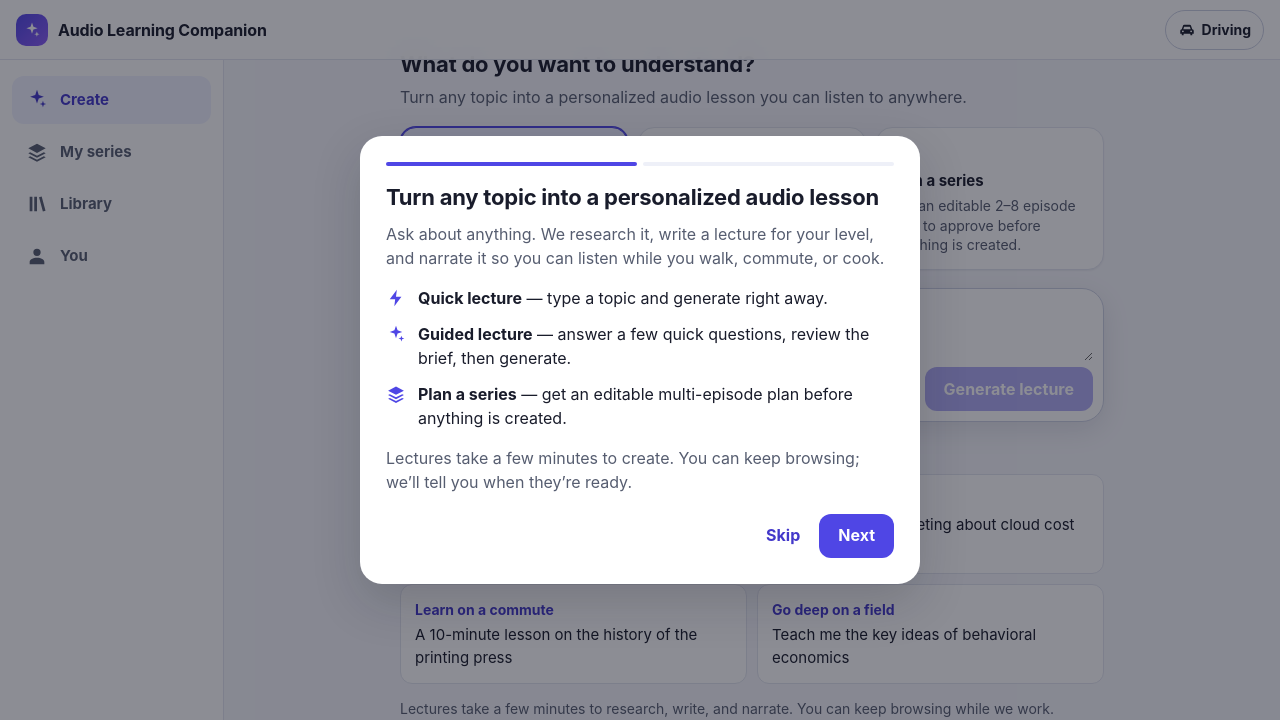
Test: first use › introduces the modes and asks for an explicit personalization choice
(page scrolled)
Expected: the navigation bar named "Primary" is shown, [0,60,224,719]
Click the button "Next": (857, 536) [819,514,894,558]
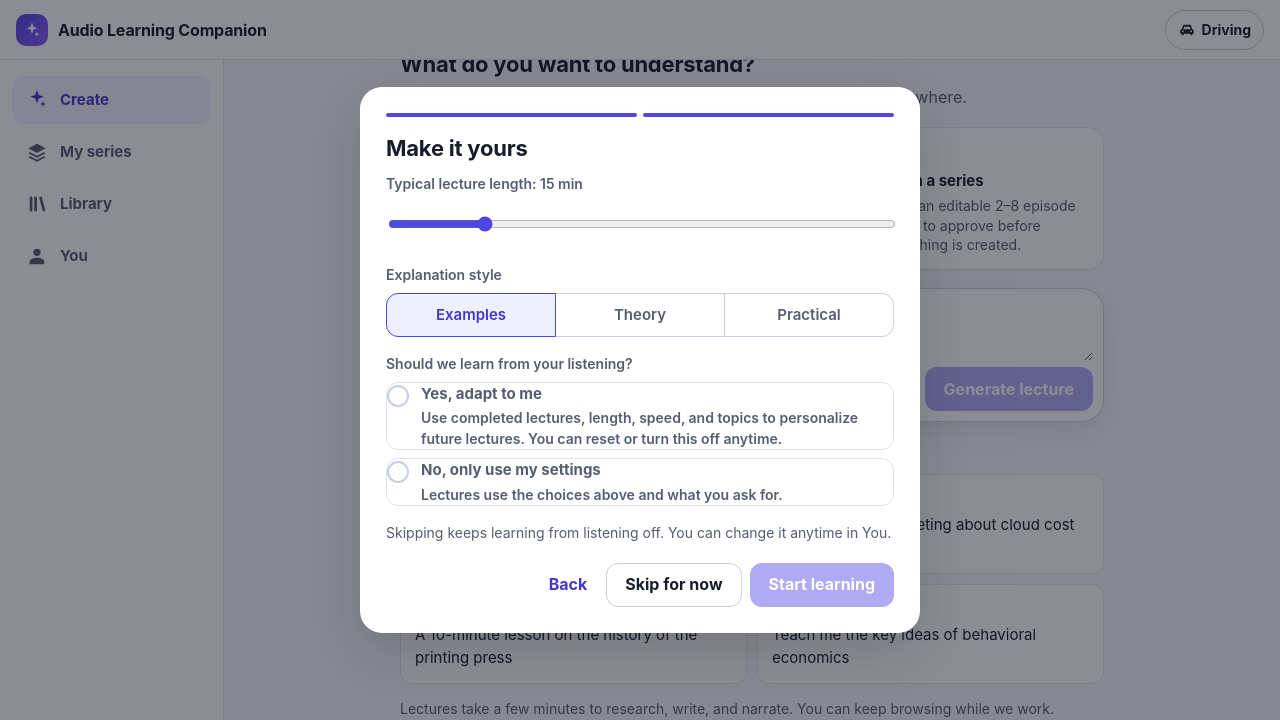
Expected: the button "Start learning" is disabled, [750,563,894,607]
Click the radio button labelled "No, only use my settings": (511, 470) [386,458,894,506]
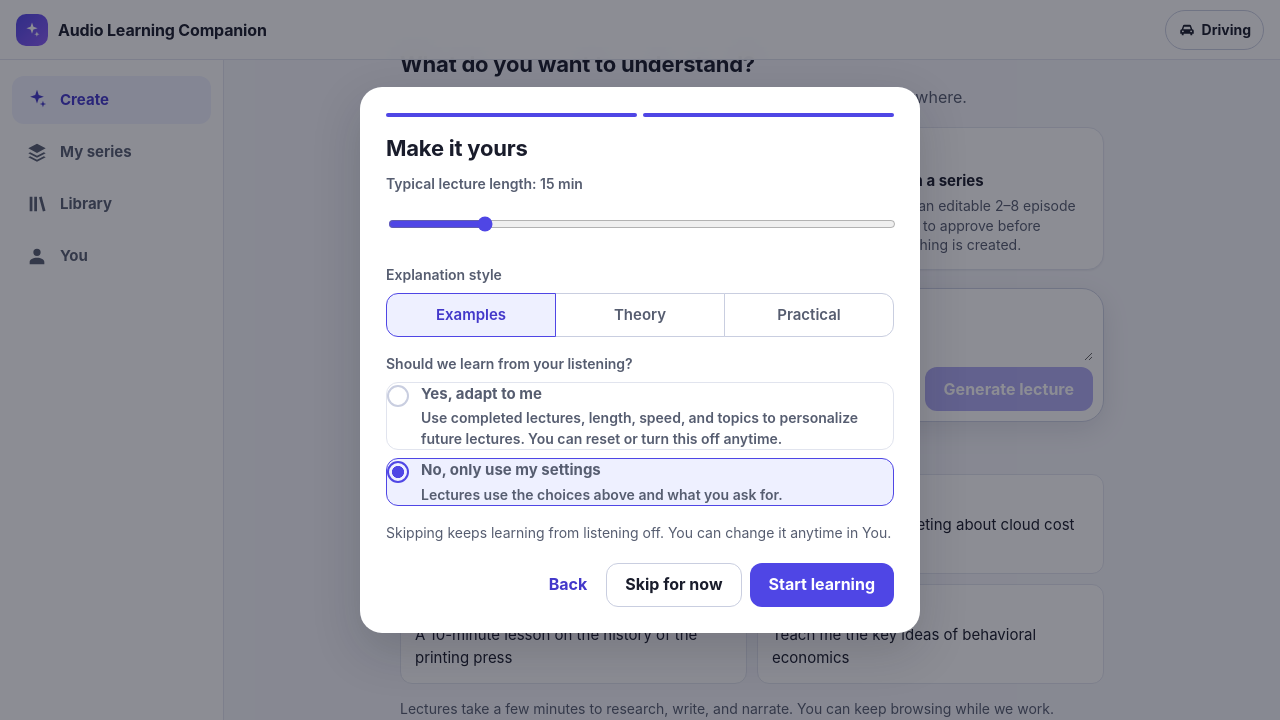
Click the button "Start learning": (822, 585) [750,563,894,607]
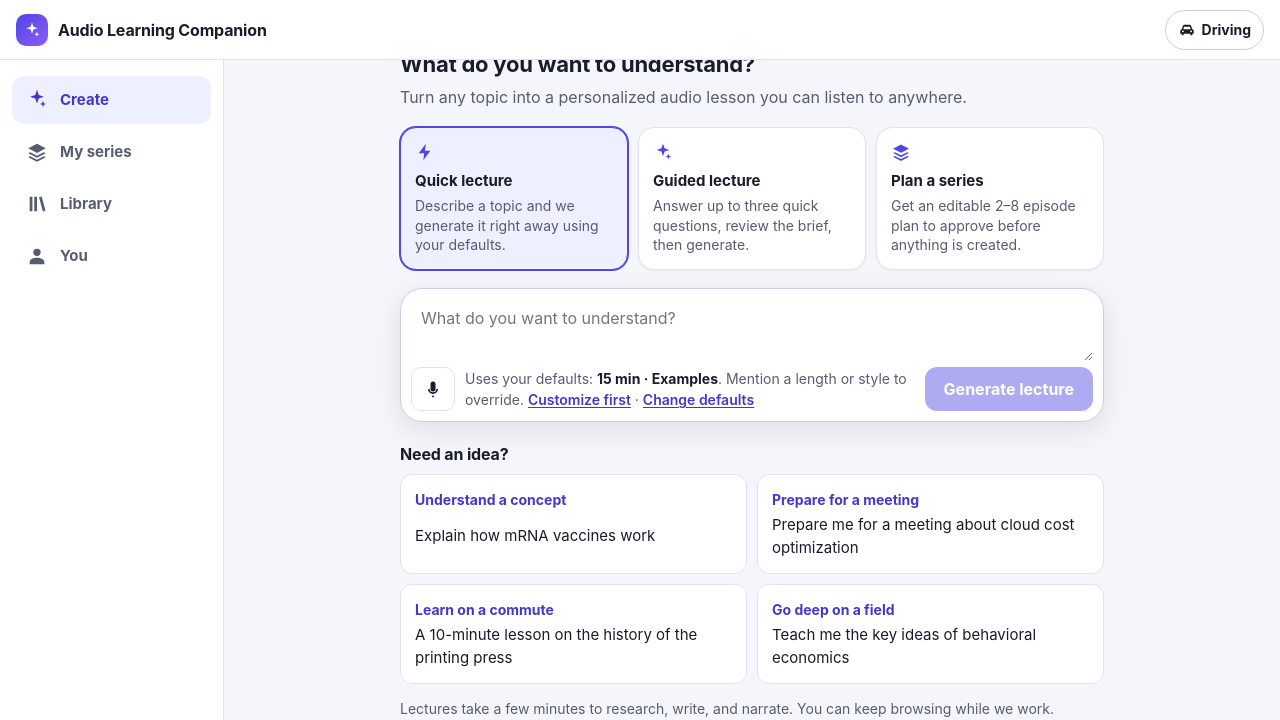
Expected: the dialog is gone
